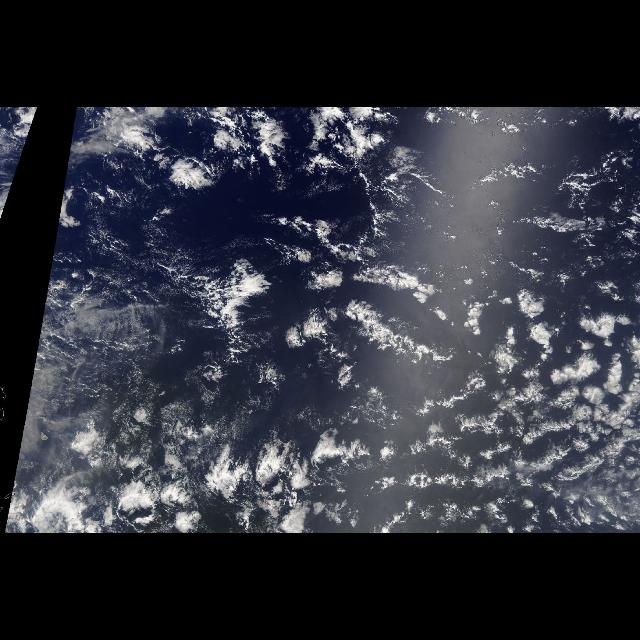Flower: (38, 384, 430, 524)
